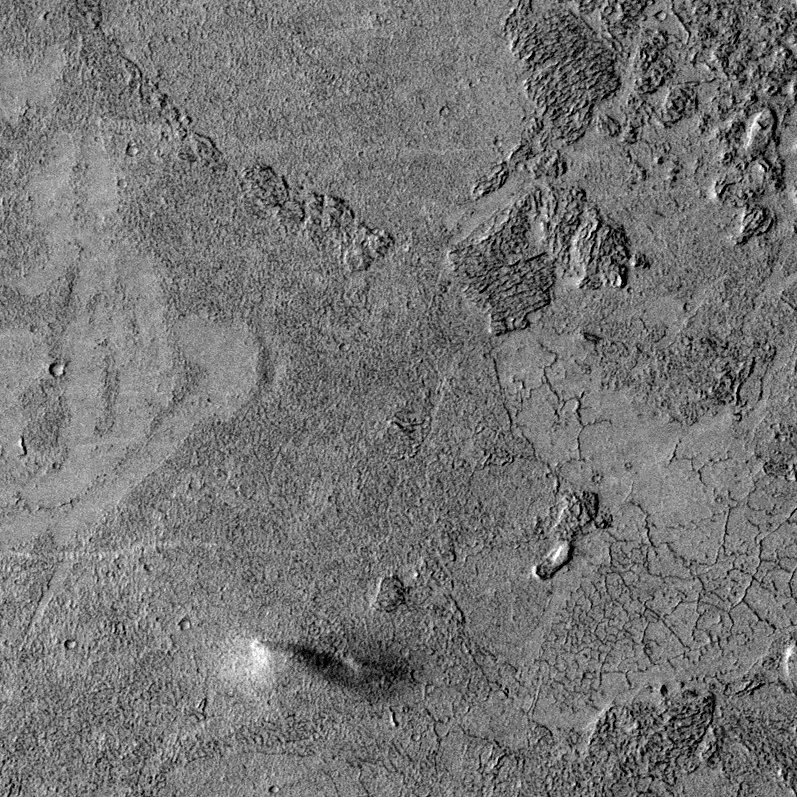dust_devil: (241, 633, 418, 700)
